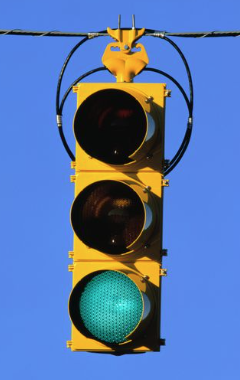green: (67, 83, 233, 380)
